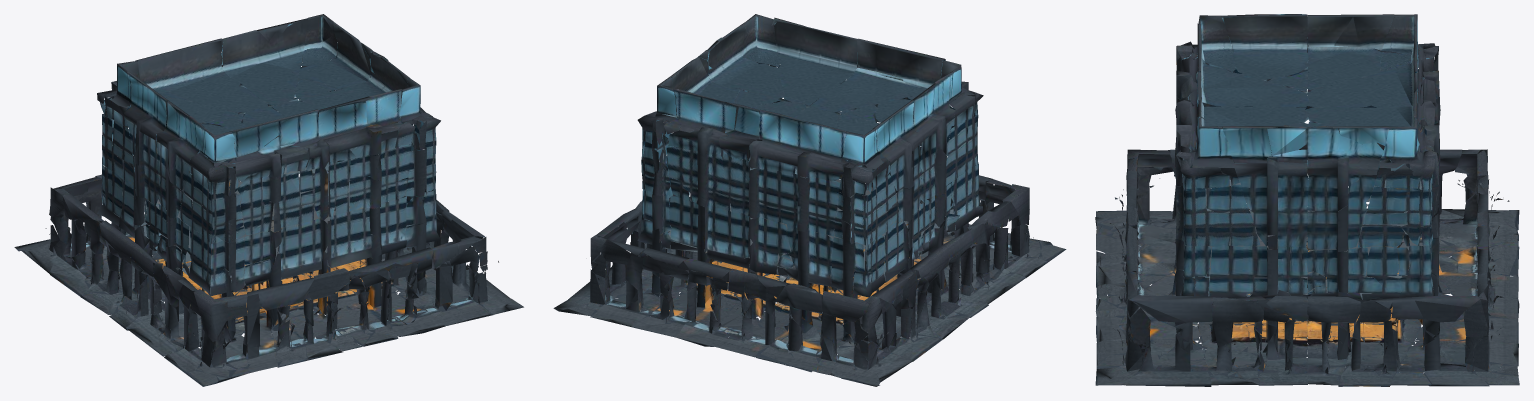
The model's file is co_lawfirm.glb.
The picture shows the model from 3 angles, left to right: view 1: azimuth 30°, elevation 25°; view 2: azimuth 150°, elevation 25°; view 3: azimuth 270°, elevation 25°; orthographic projection. The views are drawn at different scales.
Parts seen in each view (by area): view 1: Mesh_0; view 2: Mesh_0; view 3: Mesh_0.
Boxes of the visible parts, left/top/right/bottom form: Mesh_0: left=14, top=14, right=523, bottom=386; Mesh_0: left=553, top=14, right=1066, bottom=386; Mesh_0: left=1095, top=14, right=1519, bottom=386.
Size of the model in its own units: 1.87 by 1.14 by 1.9.
Materials: 1 (1 with a texture image).
